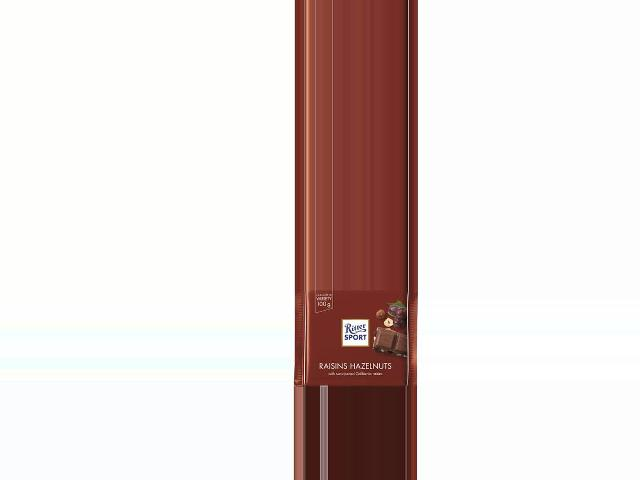chocolate: (294, 290, 419, 387)
